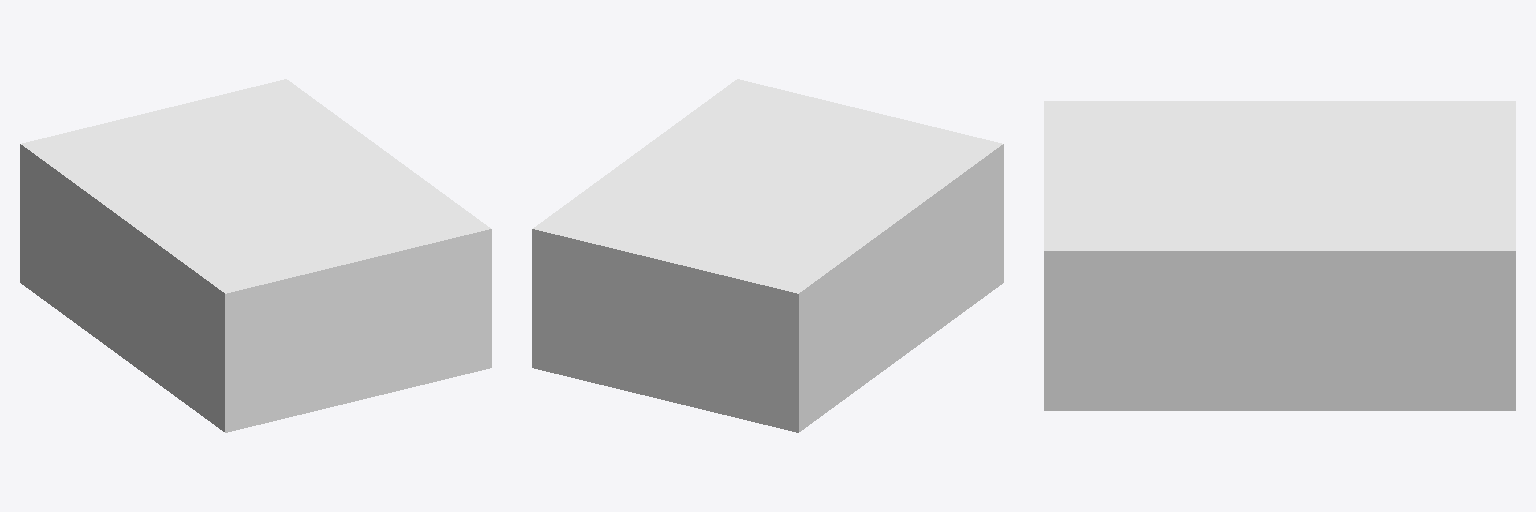
URDF robot description (real_box):
<?xml version="0.0" ?>
<robot name="real_box">
  <link name="real_box">
    <contact>
      <friction_anchor/>
      <lateral_friction value="0.3"/>
      <rolling_friction value="0.0"/>
      <contact_cfm value="0.0"/>
      <contact_erp value="1.0"/>
    </contact>
    <inertial>
       <origin rpy="0 0 0" xyz="0 0 0"/>
       <mass value="0.1"/>
       <inertia ixx="8e-05" ixy="0" ixz="0" iyy="0.0002" iyz="0" izz="0.0002"/>
    </inertial>
    <visual>
      <geometry>
        <mesh filename="textured.obj" scale="2 2 2"/>
      </geometry>
      <material name="white">
        <color rgba="1. 1. 1. 1."/>
      </material>
    </visual>
    <collision>
      <geometry>
    	 	<mesh filename="collision.obj" scale="2 2 2"/>
      </geometry>
    </collision>
  </link>
  <link name="real_box_boundary">
    <visual>
      <geometry>
        <box size="0.3 0.4 0.15"/>
      </geometry>
      <material name="transparent">
        <color rgba="1. 1. 1. 0.0"/>
      </material>
    </visual>
  </link>
  <joint name="real_box_boundary_joint" type="fixed">
    <parent link="real_box"/>
    <child link="real_box_boundary"/>
    <origin xyz="0 0 0" rpy="0 0 0"/>
  </joint>  
</robot>

--- Facts derived from the render (not from the file) ---
The picture shows the robot from 3 angles, left to right: view 1: azimuth 30°, elevation 25°; view 2: azimuth 150°, elevation 25°; view 3: azimuth 270°, elevation 25°; orthographic projection.
Robot: real_box — 2 links, 1 joints (1 fixed); root link real_box; default pose: all joints at 0.
Links seen in each view (by area): view 1: real_box_boundary; view 2: real_box_boundary; view 3: real_box_boundary.
Link boxes in pixels (<box>): real_box_boundary: <box>20,79,491,432</box>; real_box_boundary: <box>532,79,1003,432</box>; real_box_boundary: <box>1044,101,1515,410</box>.
Size in the robot's own frame: 0.3 by 0.4 by 0.15 metres.
0 mesh visuals loaded from 1 distinct referenced files (none loaded); not drawn: 1 (reference not matched to a file when rendering).
